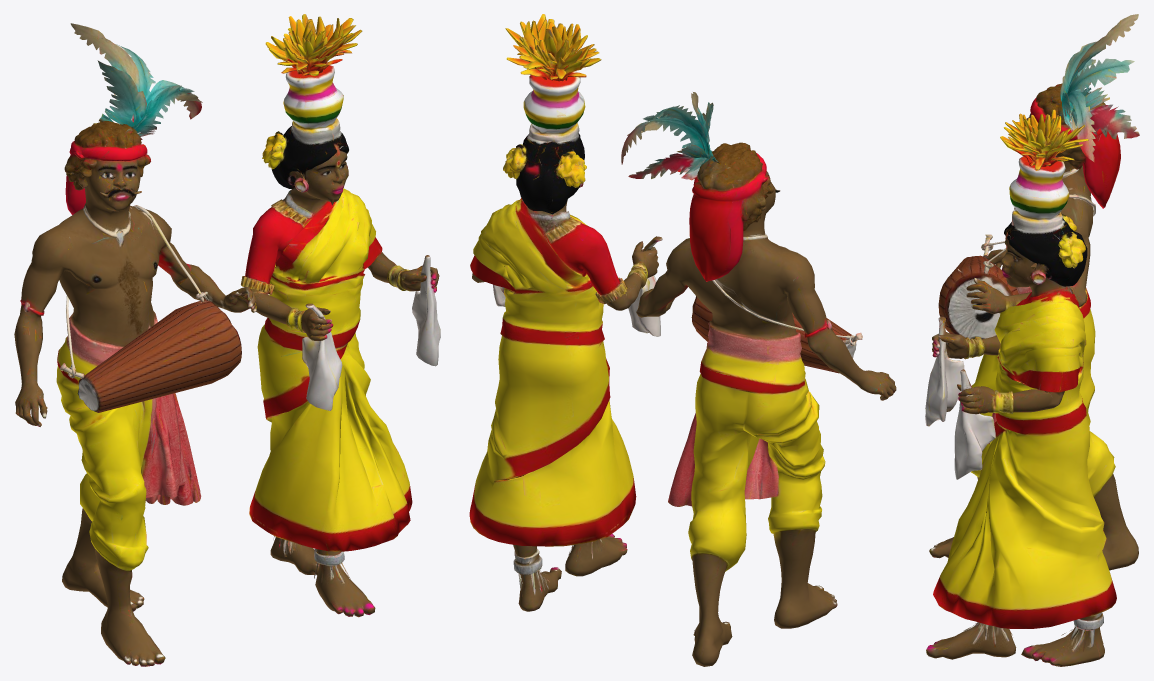
File: festival-dancers.glb
The picture shows the model from 3 angles, left to right: view 1: azimuth 30°, elevation 25°; view 2: azimuth 150°, elevation 25°; view 3: azimuth 270°, elevation 25°; orthographic projection. The views are drawn at different scales.
Visible parts, largest first — view 1: festival-dancers; view 2: festival-dancers; view 3: festival-dancers.
Part boxes in pixels (left/top/right/bottom): festival-dancers: left=14, top=14, right=440, bottom=666; festival-dancers: left=469, top=14, right=896, bottom=666; festival-dancers: left=925, top=14, right=1139, bottom=666.
Bounding box in the file's own units: 0.2673 × 0.355 × 0.1248.
1 material, 1 textured.
